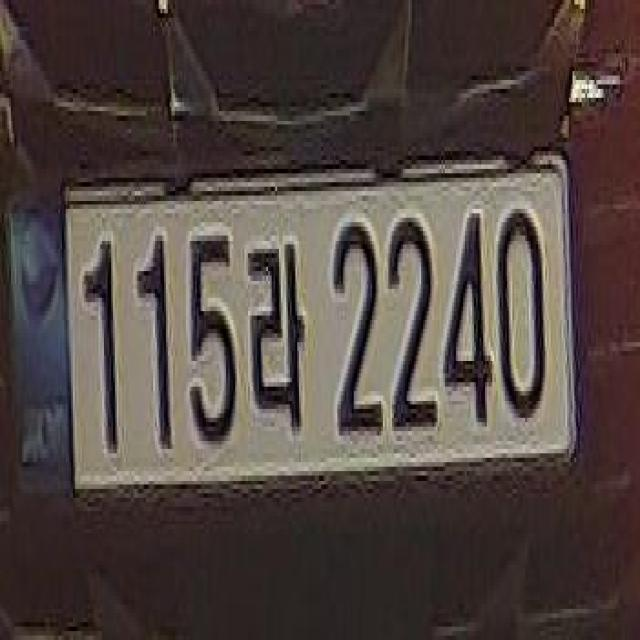illegal_plate: (21, 157, 580, 510)
